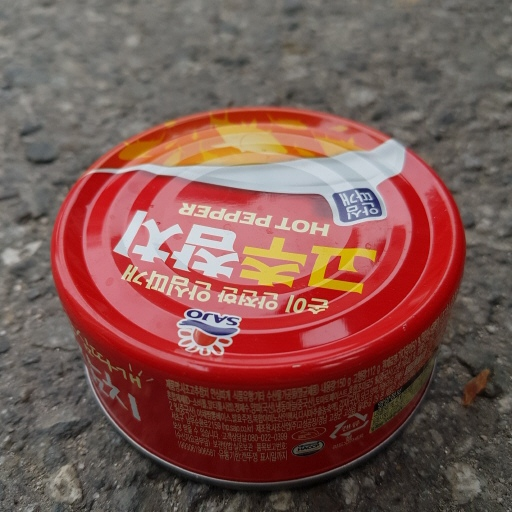Metal_1: (51, 108, 467, 479)
